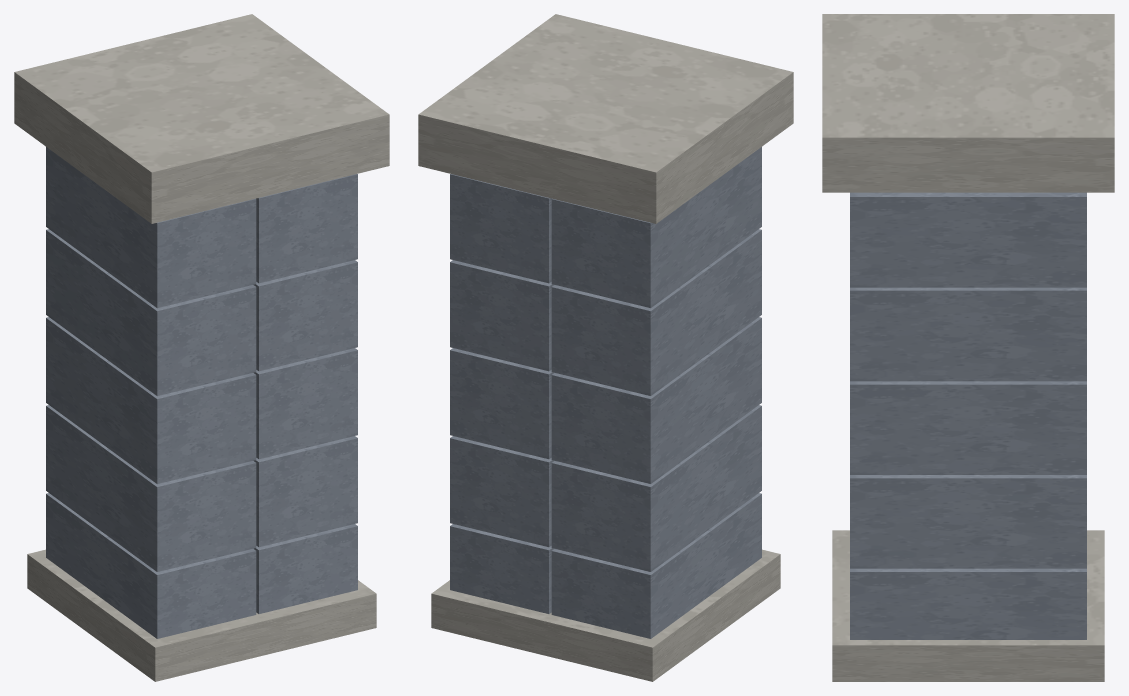
Rendered from masonry_pier.glb.
3 renders of one model, left to right at view 1: azimuth 30°, elevation 25°; view 2: azimuth 150°, elevation 25°; view 3: azimuth 270°, elevation 25°, orthographic. The views are drawn at different scales.
Visible parts, largest first — view 1: outdoor_masonry_pier; view 2: outdoor_masonry_pier; view 3: outdoor_masonry_pier.
Part boxes in pixels (bbox=[...]): outdoor_masonry_pier: bbox=[14, 14, 389, 681]; outdoor_masonry_pier: bbox=[418, 14, 793, 681]; outdoor_masonry_pier: bbox=[822, 14, 1114, 681].
Size of the model in its own units: 0.58 by 1.2 by 0.58.
Materials: 1 (1 with a texture image).
